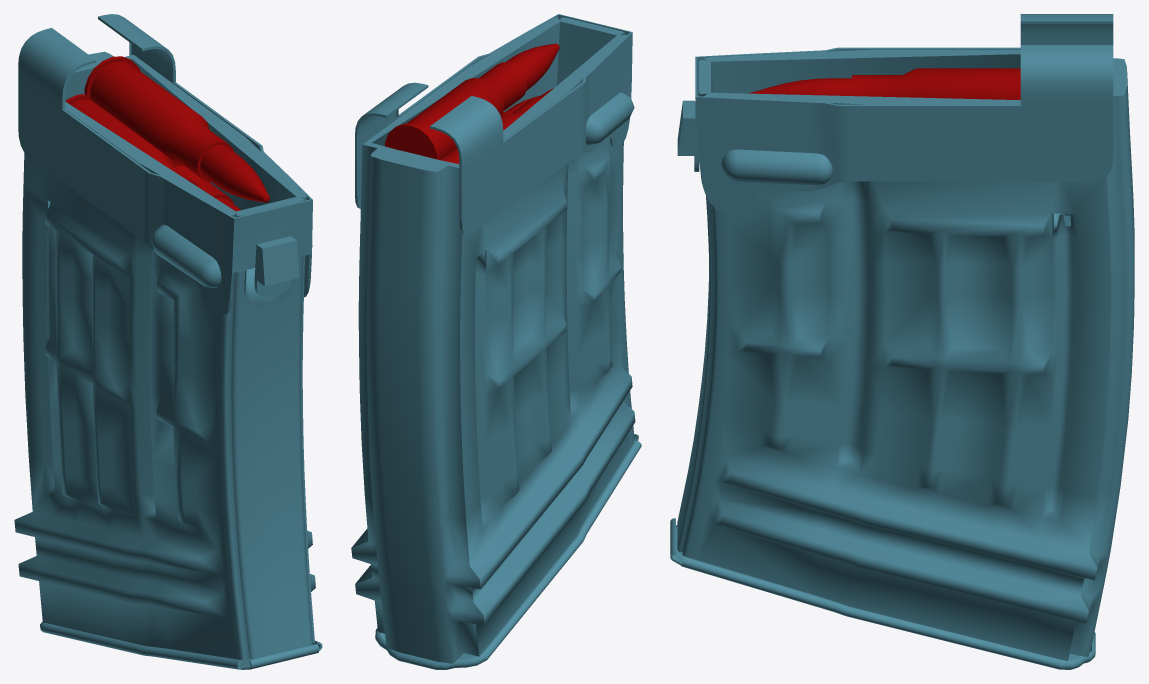
Rendered from SM_SVD63Mag.fbx.
The picture shows the model from 3 angles, left to right: view 1: azimuth 30°, elevation 25°; view 2: azimuth 150°, elevation 25°; view 3: azimuth 270°, elevation 25°; orthographic projection. The views are drawn at different scales.
Parts seen in each view (by area): view 1: Dragunov.001; view 2: Dragunov.001; view 3: Dragunov.001.
Part boxes in pixels (left/top/right/bottom): Dragunov.001: left=14, top=14, right=322, bottom=669; Dragunov.001: left=351, top=14, right=641, bottom=669; Dragunov.001: left=670, top=14, right=1134, bottom=669.
Bounding box in the file's own units: 3.2 × 13.11 × 8.97.
